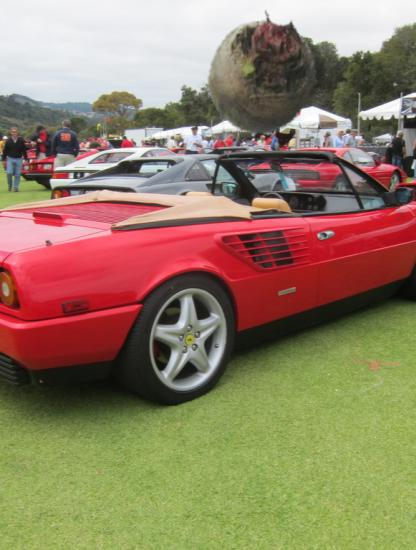Beetroot: (194, 6, 332, 144)
